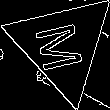M_E: (33, 17, 92, 74)
